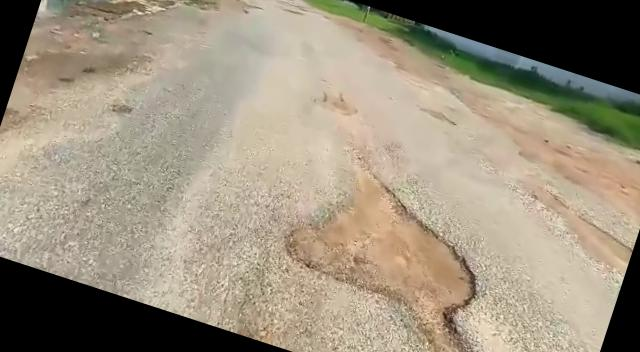pothole: (270, 156, 508, 336), (489, 172, 640, 286), (417, 104, 459, 127)
